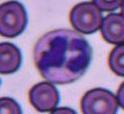N: (33, 29, 92, 83)
